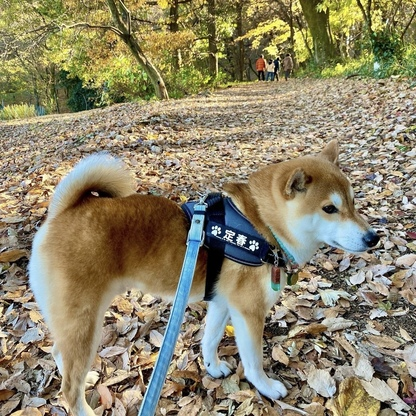shiba: (19, 145, 384, 416)
